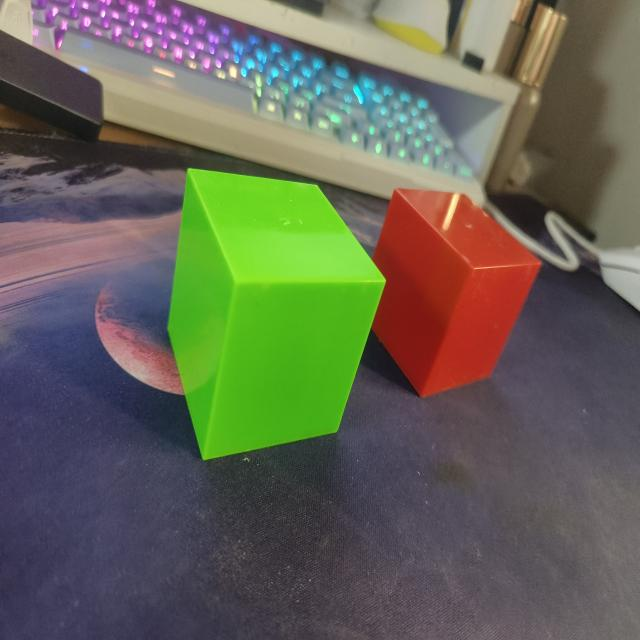green: (153, 150, 391, 472)
red: (388, 175, 544, 397)
